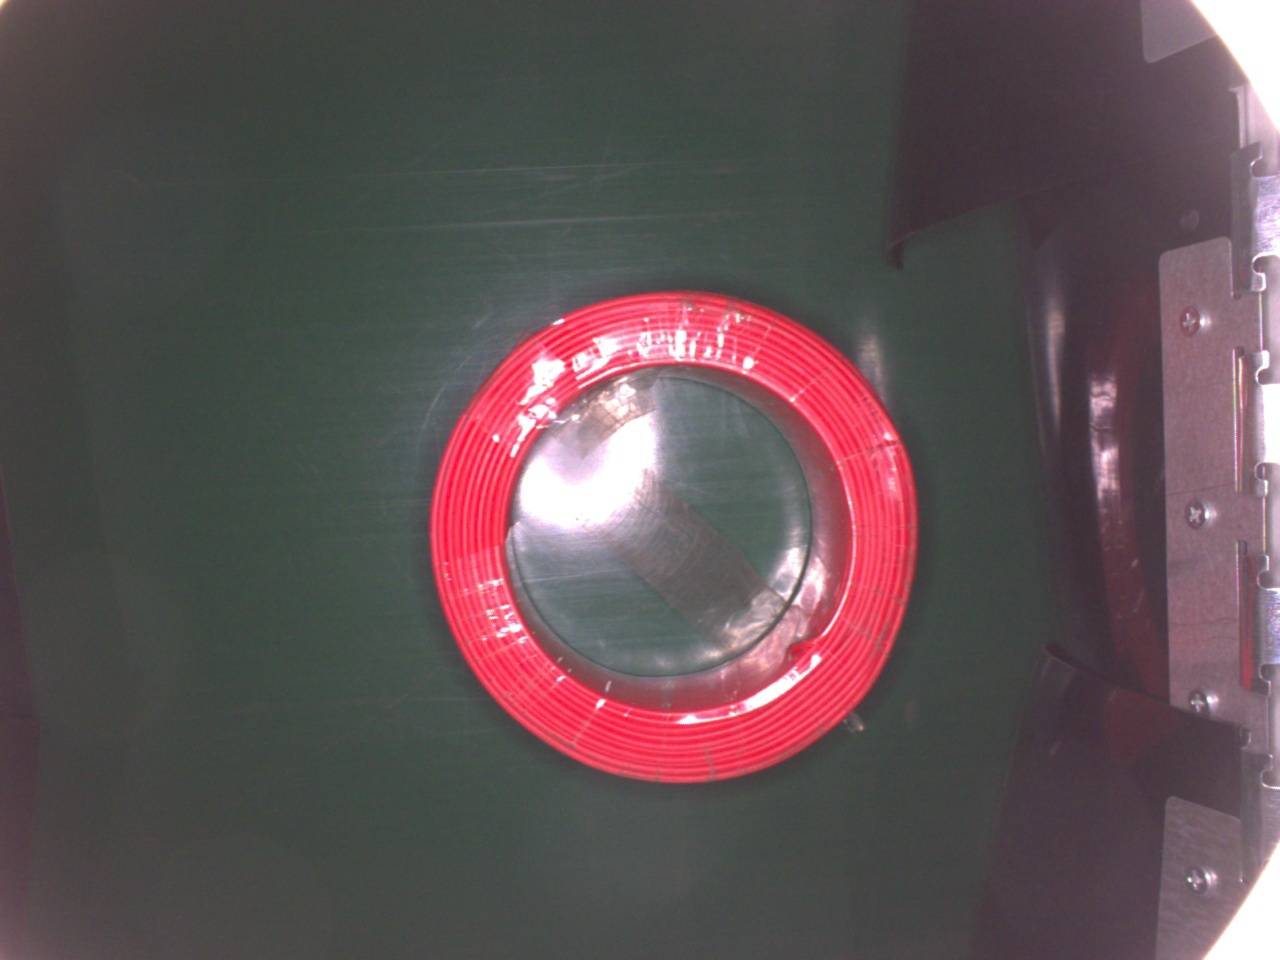red: (427, 285, 920, 782)
